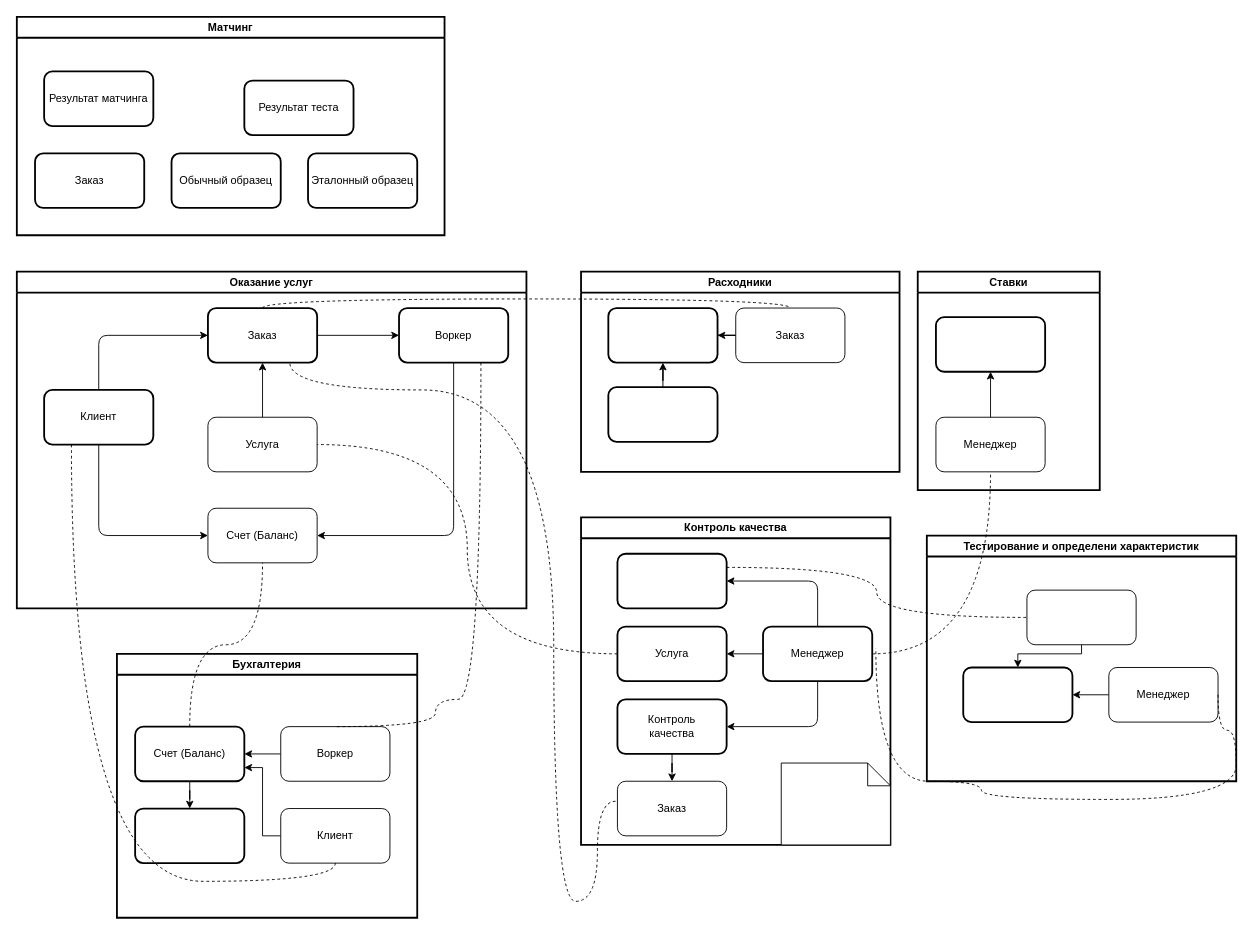
Image size: 1252x934. Some labels were removed from this diagram. Each missing label, with the centre of its shape:
"Заявка воркера" belongs at point (1017, 694).
"Материалы" belongs at point (662, 335).
"Некоторый HR Space получается" belongs at point (835, 803).
"Сотрудник" belongs at point (662, 414).
"Ставка" belongs at point (990, 344).
"Тест воркера" belongs at point (1081, 617).
"Тесты воркера" belongs at point (671, 580).
"Транзакция" belongs at point (189, 835).
